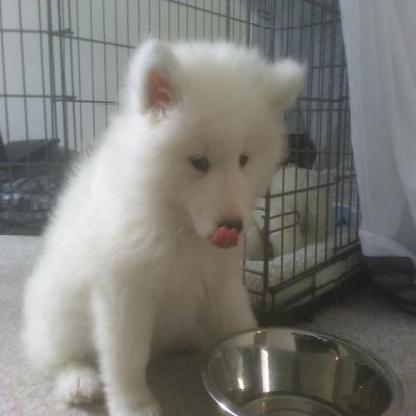Samoyed: (19, 37, 309, 413)
